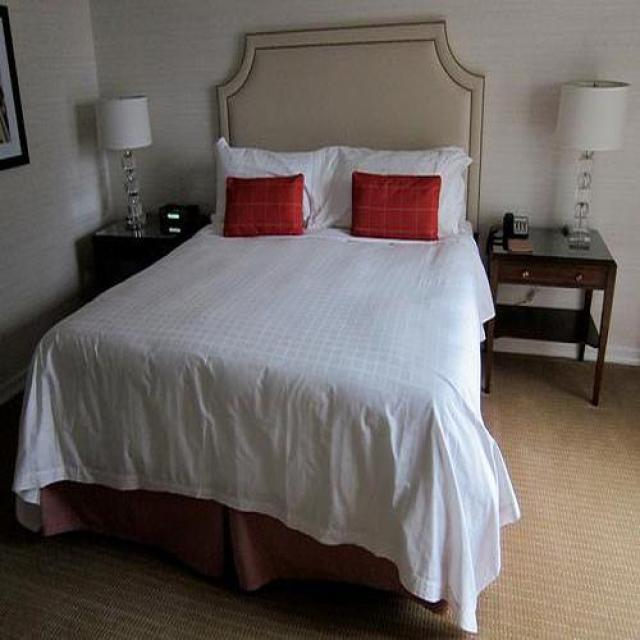bed: (10, 20, 522, 635)
